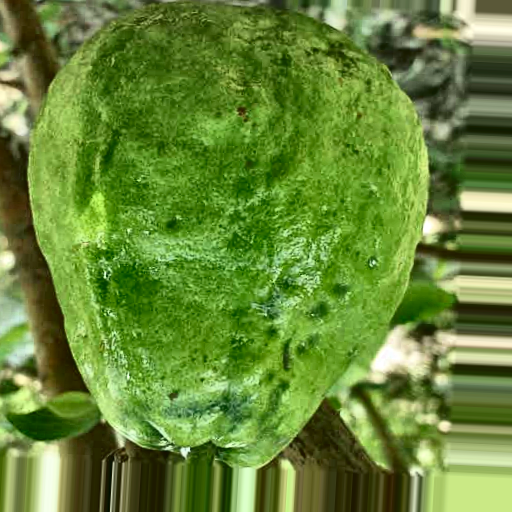guava: (45, 119, 448, 458)
